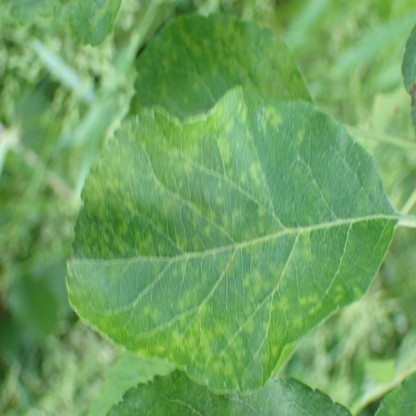scab: (69, 106, 360, 388), (140, 19, 315, 110), (410, 81, 416, 106)
